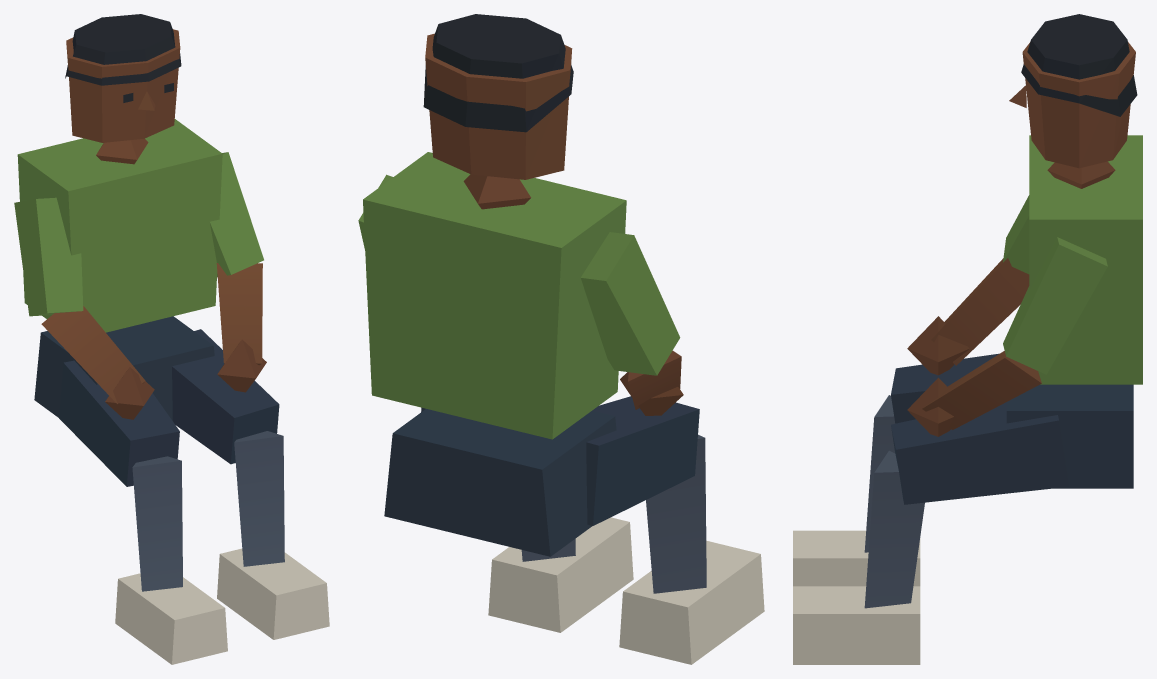
The model's file is fan-07.glb.
The picture shows the model from 3 angles, left to right: view 1: azimuth 30°, elevation 25°; view 2: azimuth 150°, elevation 25°; view 3: azimuth 270°, elevation 25°; orthographic projection. The views are drawn at different scales.
Parts seen in each view (by area): view 1: fan-07; view 2: fan-07; view 3: fan-07.
Boxes of the visible parts, left/top/right/bottom form: fan-07: left=14, top=14, right=329, bottom=664; fan-07: left=358, top=14, right=764, bottom=664; fan-07: left=793, top=14, right=1142, bottom=664.
Size of the model in its own units: 0.6286 by 1.41 by 0.77.
